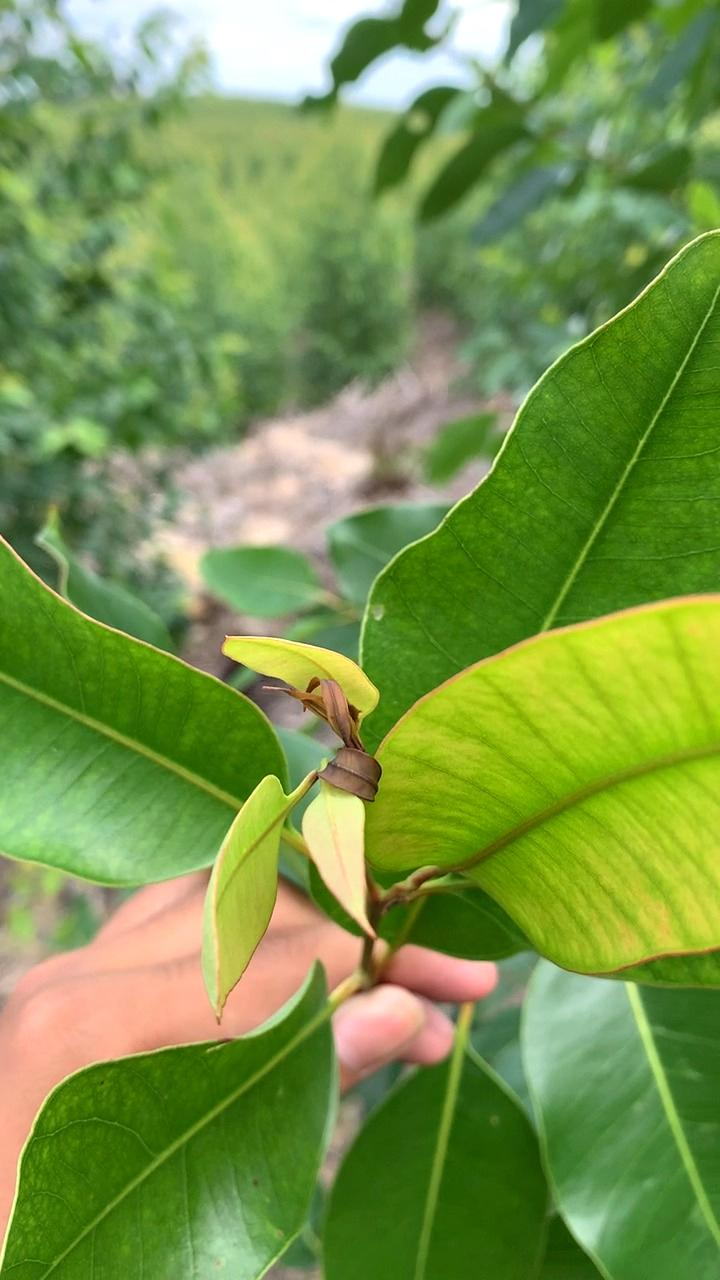Helopeltis-Withered Sprout: (288, 655, 395, 809)
